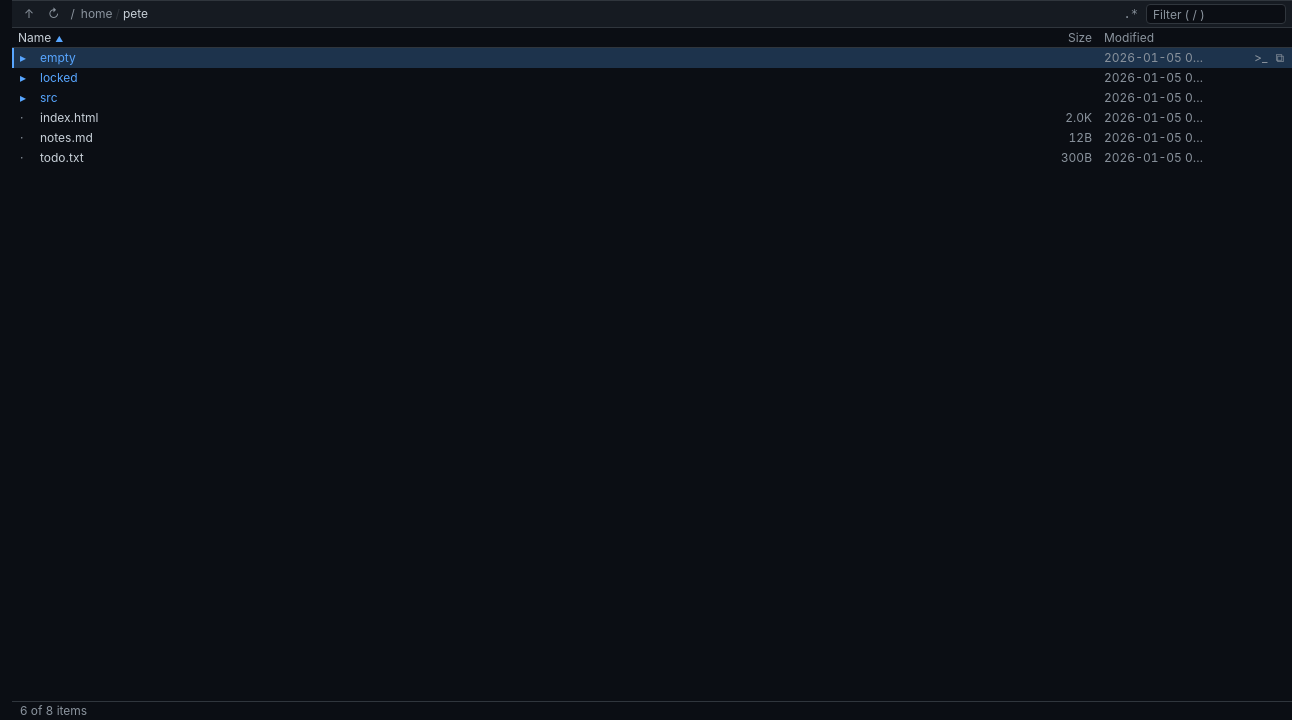
Test: FilesPane › reveals dot files with the hidden files toggle
What coordinates should you click on to do the following:
click the button named "Show hidden files"
I would click on:
 (1131, 14)
Its box is [1118, 4, 1144, 24].
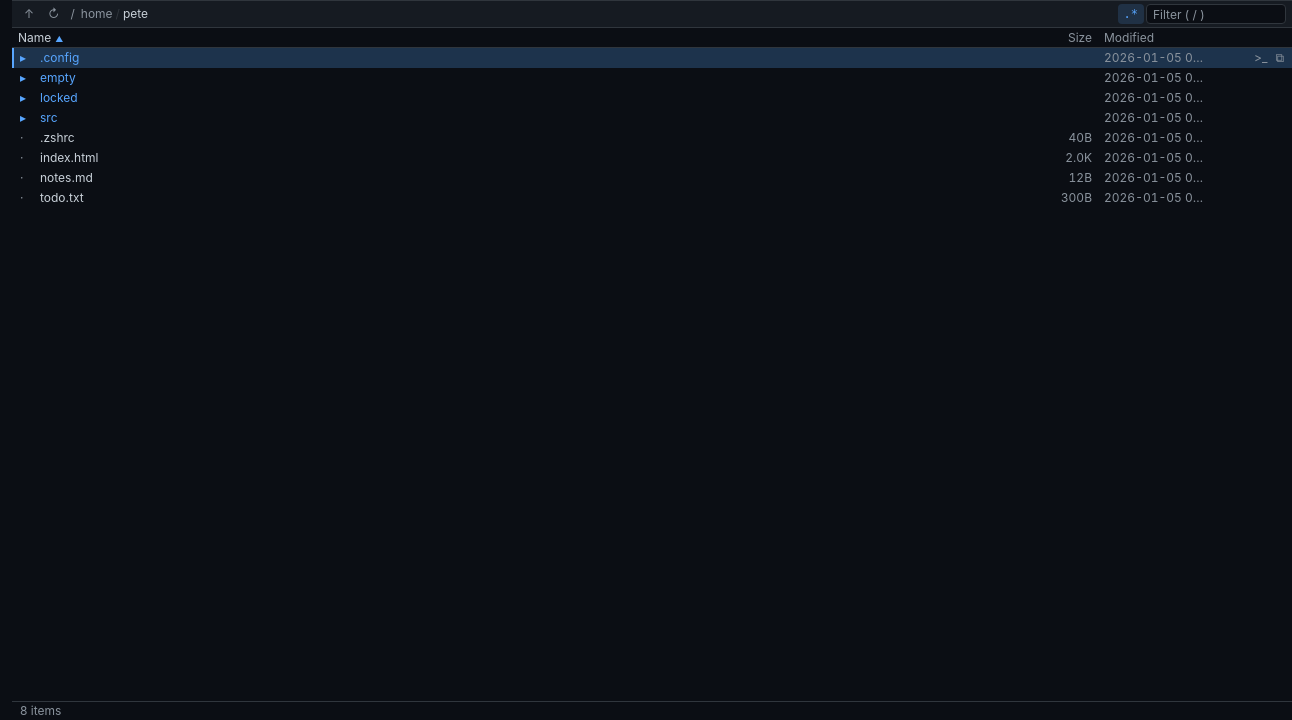
Check: the message reads "8 items", box [20, 703, 61, 718]
